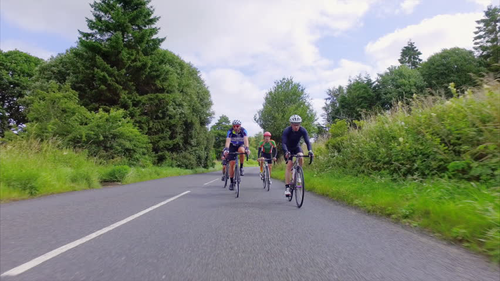bikerider: (272, 101, 318, 218), (218, 118, 250, 197), (252, 125, 277, 188)
